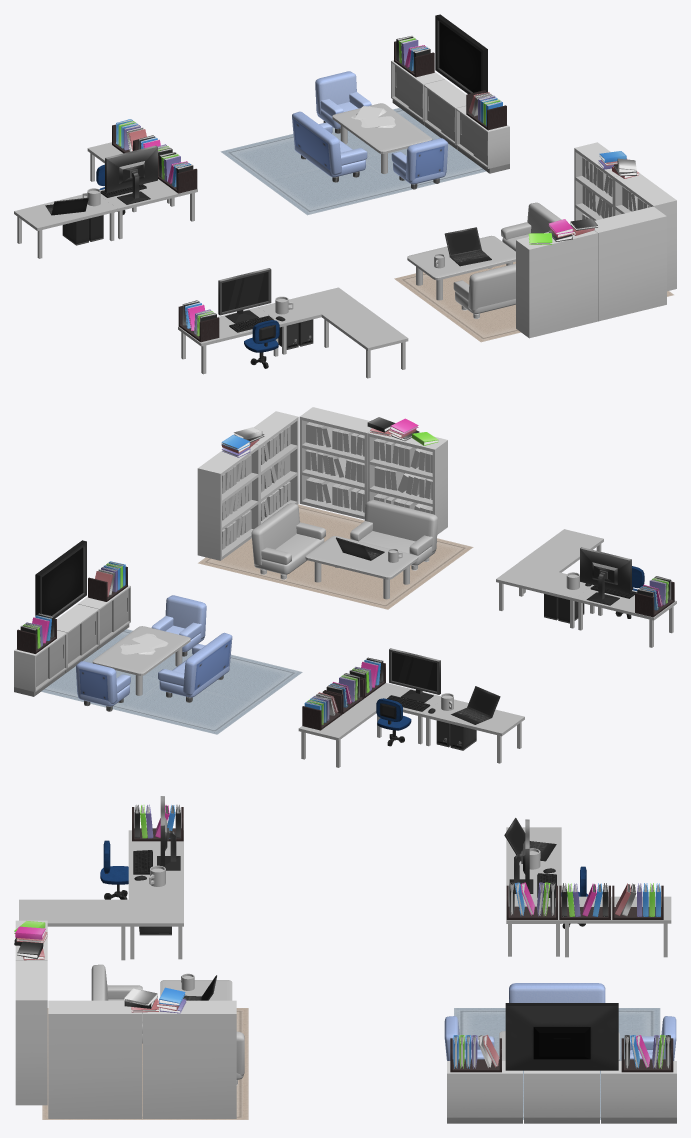
The model's file is RoomStartSet.FBX.
3 views of the same model, one above another, from view 1: azimuth 30°, elevation 25°; view 2: azimuth 150°, elevation 25°; view 3: azimuth 270°, elevation 25° (orthographic). The views are drawn at different scales.
Parts seen in each view (by area): view 1: Plane007, bookshelf040, bookshelf041, Plane003, moniter0 003, ChamferBox022, Box574, ChamferBox024, ChamferBox020, bookshelf042, ChamferBox021, Box616 (+22 smaller); view 2: Plane007, Plane003, bookshelf043, Books017, ChamferBox020, ChamferBox019, bookshelf041, bookshelf040, Books016, moniter0 003, ChamferBox022, ChamferBox021 (+28 smaller); view 3: bookshelf042, bookshelf043, moniter0 003, bookshelf041, chestbox098, chestbox096, chestbox097, Box574, Box572, Plane007, ChamferBox022, Plane003 (+17 smaller).
Part boxes in pixels (x1,y1,x2,y2): Plane007: (220, 108, 486, 215); bookshelf040: (516, 230, 597, 338); bookshelf041: (594, 206, 666, 321); Plane003: (394, 261, 673, 342); moniter0 003: (435, 14, 487, 94); ChamferBox022: (292, 111, 367, 182); Box574: (321, 304, 408, 378); ChamferBox024: (332, 103, 432, 173); ChamferBox020: (453, 263, 515, 318); bookshelf042: (614, 173, 676, 291); ChamferBox021: (407, 235, 515, 300); Box616: (105, 145, 157, 204); Plane007: (41, 629, 302, 734); Plane003: (198, 504, 473, 609); bookshelf043: (197, 444, 259, 560); Books017: (305, 422, 364, 512); ChamferBox020: (350, 499, 437, 570); ChamferBox019: (251, 503, 325, 579); bookshelf041: (299, 407, 371, 519); bookshelf040: (367, 431, 447, 534); Books016: (374, 438, 432, 513); moniter0 003: (35, 540, 86, 618); ChamferBox022: (158, 632, 232, 702); ChamferBox021: (305, 536, 418, 599); bookshelf042: (48, 1000, 141, 1118); bookshelf043: (142, 1000, 236, 1118); moniter0 003: (505, 1003, 618, 1070); bookshelf041: (15, 960, 47, 1105); chestbox098: (524, 1070, 599, 1123); chestbox096: (601, 1061, 676, 1123); chestbox097: (447, 1061, 522, 1123); Box574: (19, 899, 128, 960); Box572: (128, 876, 183, 959); Plane007: (454, 1008, 660, 1119); ChamferBox022: (509, 983, 605, 1002); Plane003: (42, 1008, 248, 1119).
Size of the model in its own units: 112 by 119 by 24.25.
